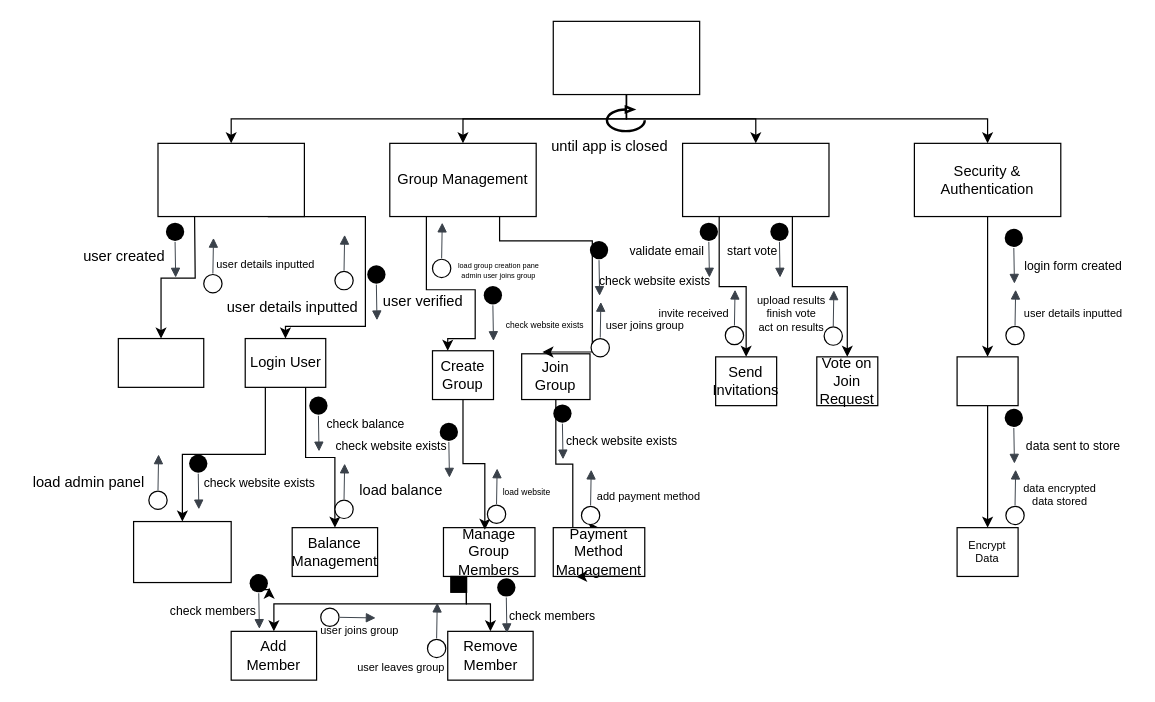
The diagram is 1155 pixels wide and 702 high, and some of its shapes have lost their labels. Each missing label, with the centre of its shape:
Authenticate User: the point at 987,381
Chipin App: the point at 626,57
Invitation & Voting: the point at 755,179
Profile Administration: the point at 181,551
Register User: the point at 160,362
User Management: the point at 230,179
